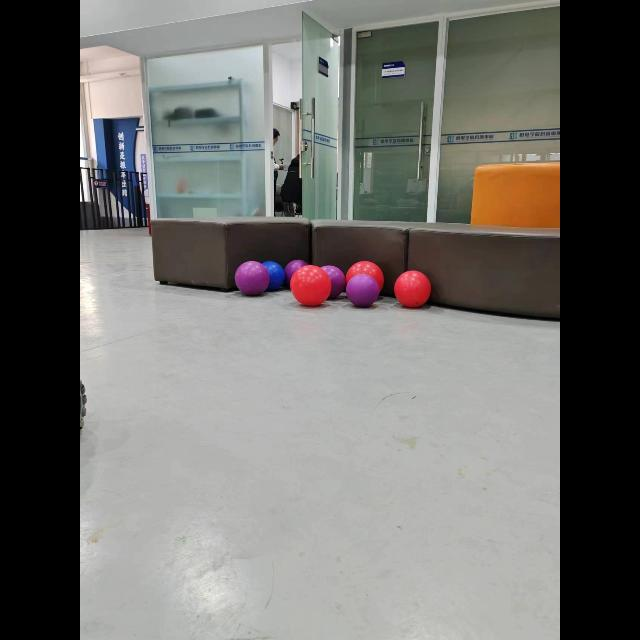B: (262, 261, 285, 291)
P: (235, 261, 270, 295), (346, 274, 380, 308), (321, 265, 346, 297), (285, 260, 308, 287)
R: (290, 265, 331, 306), (394, 270, 431, 308), (346, 261, 384, 289)
